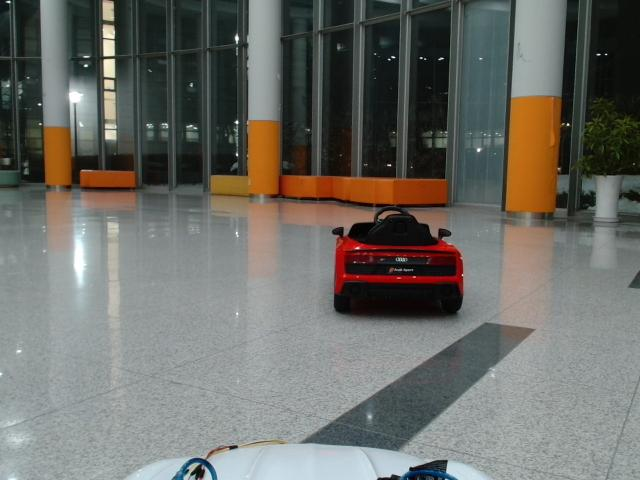car: (332, 203, 465, 316)
